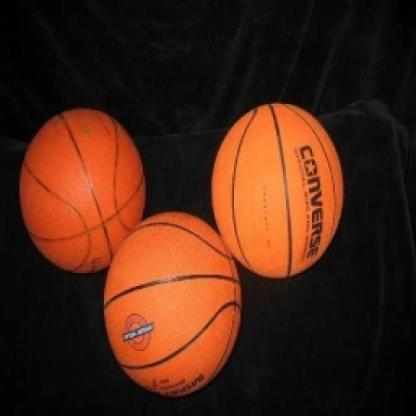basketball: (105, 209, 242, 399), (213, 100, 347, 278), (19, 107, 150, 273)
